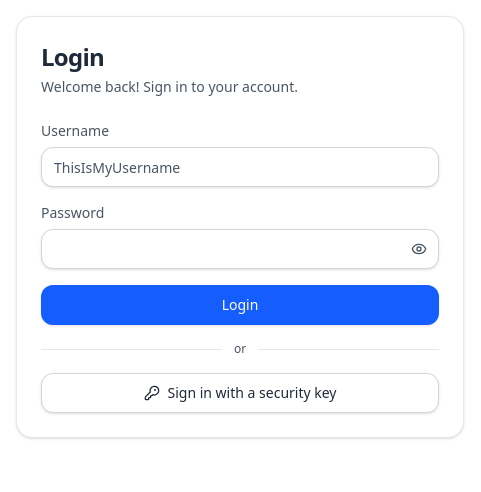
Test: LoginForm › shows an error and does not navigate on bad credentials
Click the button "Login" at (240, 305), box x1=41 y1=285 x2=439 y2=325
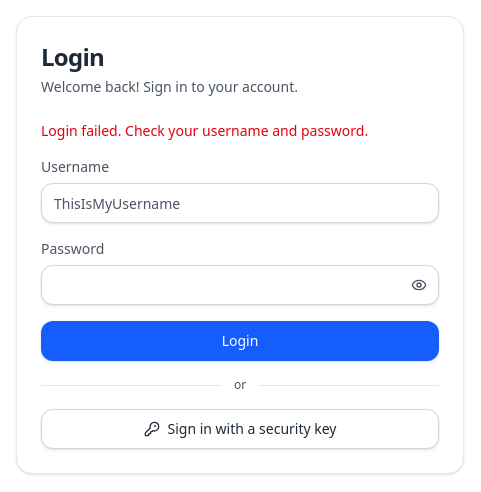
Check: the text "Login failed. Check your username and password." is shown, box x1=41 y1=121 x2=368 y2=140
